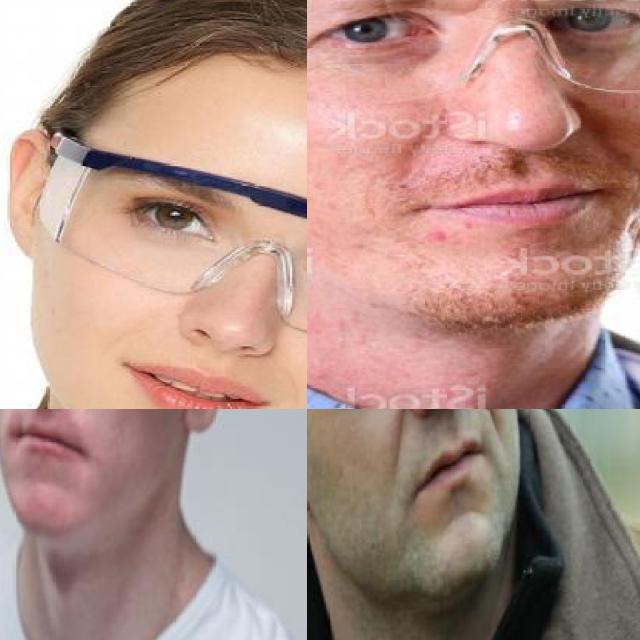face_nomask: (320, 0, 640, 277), (112, 185, 307, 409), (314, 409, 529, 524), (0, 409, 166, 495)
glasses: (33, 121, 307, 352), (307, 0, 640, 99)
